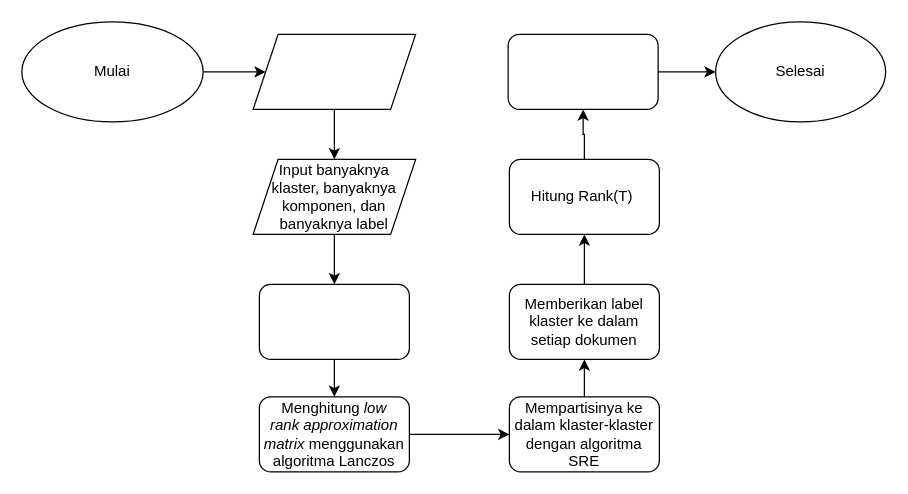
The diagram is 908 pixels wide and 494 high, and some of its shapes have lost their labels. Each missing label, with the centre of its shape:
"Input kumpulan dokumen, kata-kata, dan tag-tag" goes at (334,71).
"Membuat matriks W sesuai persamaan 2.9" goes at (333,321).
"Membuat Two Way Poisson Mixture Model" goes at (582,71).
